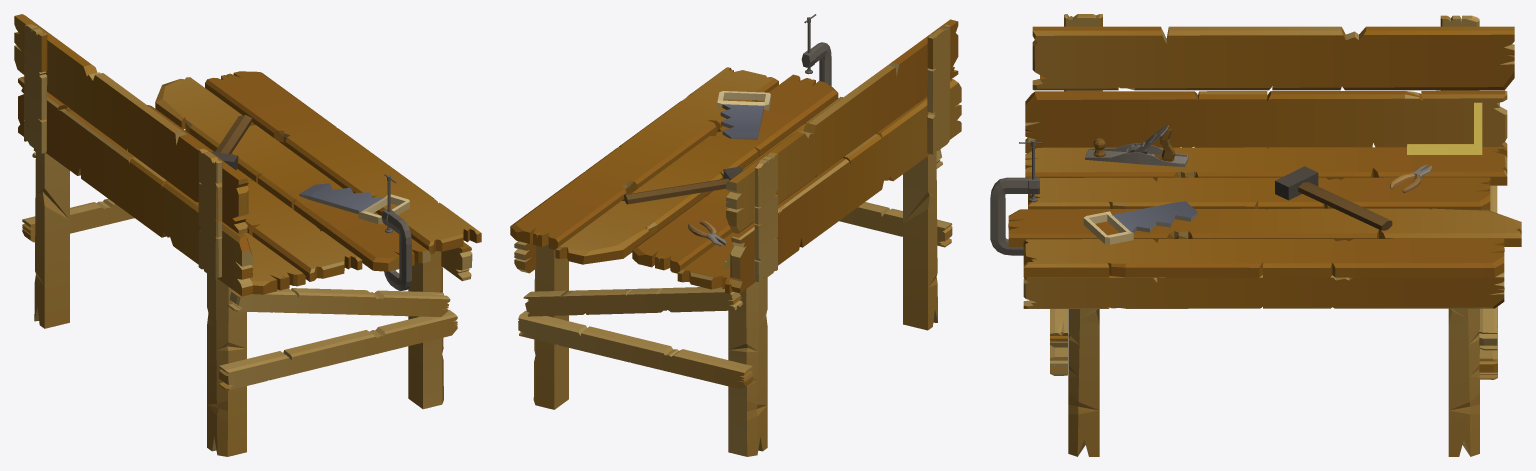
The model's file is Workbench.fbx.
3 renders of one model, left to right at view 1: azimuth 30°, elevation 25°; view 2: azimuth 150°, elevation 25°; view 3: azimuth 270°, elevation 25°, orthographic. The views are drawn at different scales.
Visible parts, largest first — view 1: Cube; view 2: Cube; view 3: Cube.
Part boxes in pixels (box(x1,y1,x2,y2)): Cube: box(14, 14, 481, 456); Cube: box(510, 14, 961, 456); Cube: box(990, 14, 1521, 456).
Bounding box in the file's own units: 4546 × 5273 × 7922.
